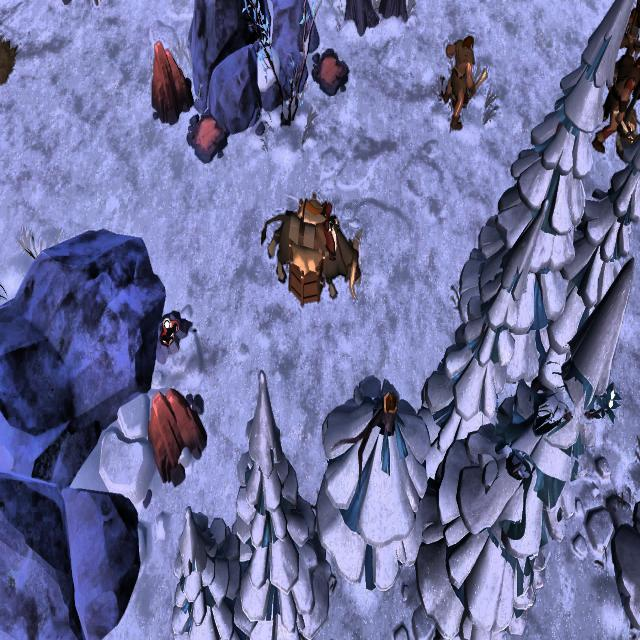enemy_factionKeeper: (592, 49, 640, 158), (441, 28, 483, 131)
fiber_t4: (592, 382, 622, 427)
rock_t5: (146, 384, 210, 475), (146, 42, 195, 128)
